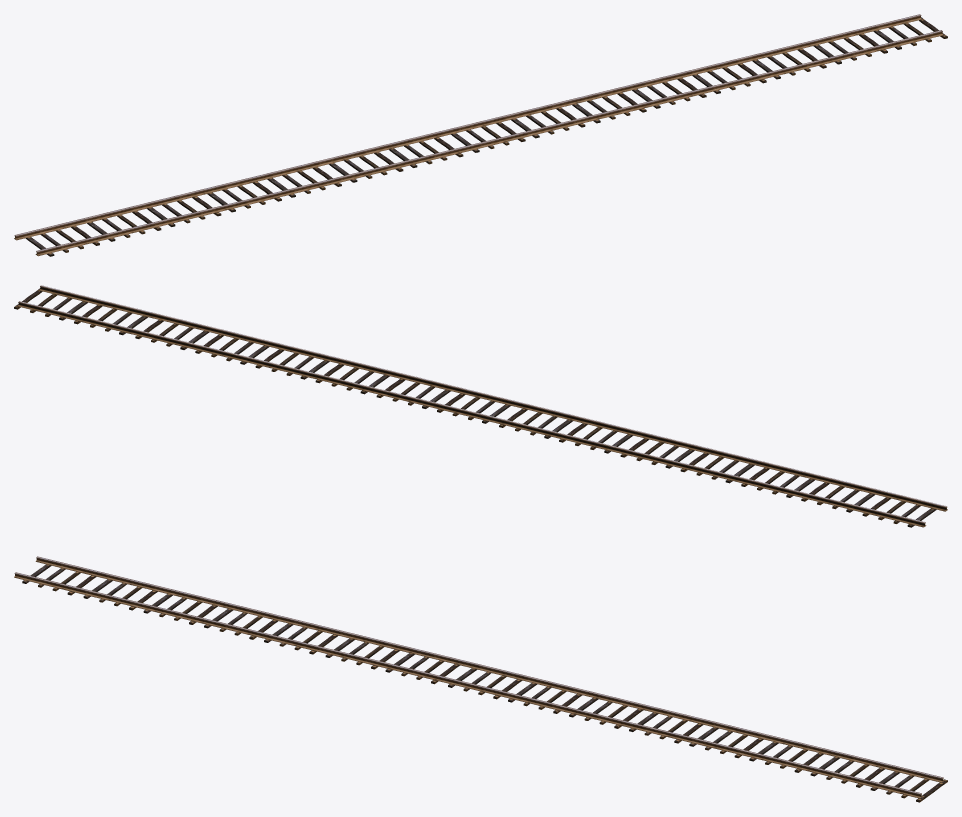
File: railroadtrackslong.glb
3 views of the same model, one above another, from view 1: azimuth 30°, elevation 25°; view 2: azimuth 150°, elevation 25°; view 3: azimuth 330°, elevation 25° (orthographic).
Visible parts, largest first — view 1: 0_RailroadTrackLong; view 2: 0_RailroadTrackLong; view 3: 0_RailroadTrackLong.
Boxes of the visible parts, x1,y1,x2,y2 form: 0_RailroadTrackLong: (14, 14, 947, 256); 0_RailroadTrackLong: (14, 285, 947, 527); 0_RailroadTrackLong: (14, 556, 947, 802).
Bounding box in the file's own units: 48.89 × 0.2993 × 2.64.
1 material, 1 textured.
